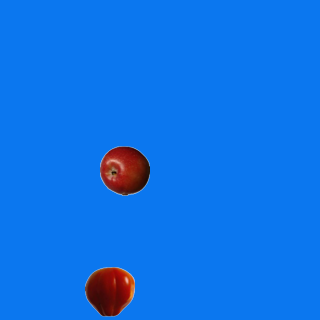Apple Braeburn: (99, 145, 149, 195)
Tomato 1: (84, 266, 134, 316)
